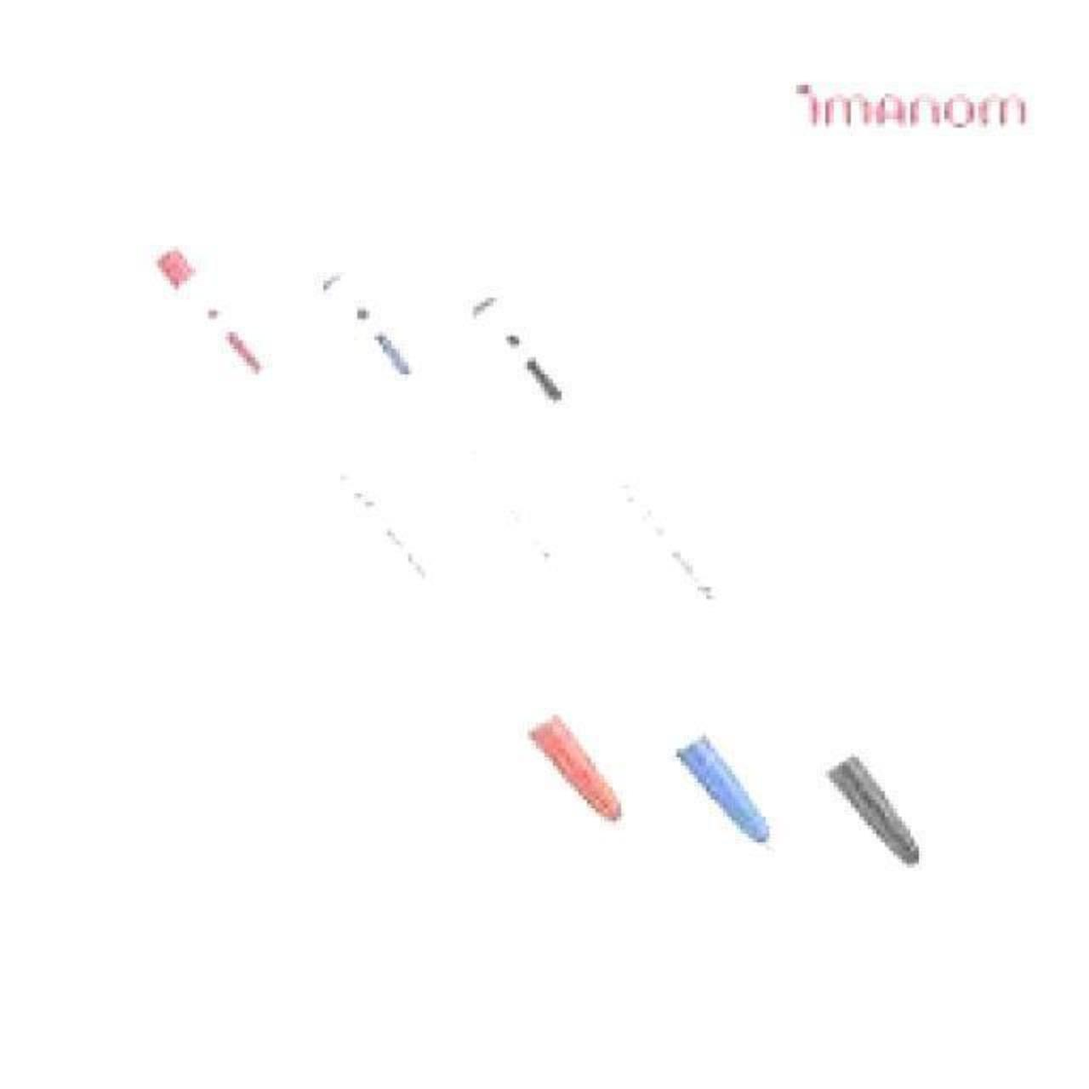pen: (468, 289, 936, 876)
